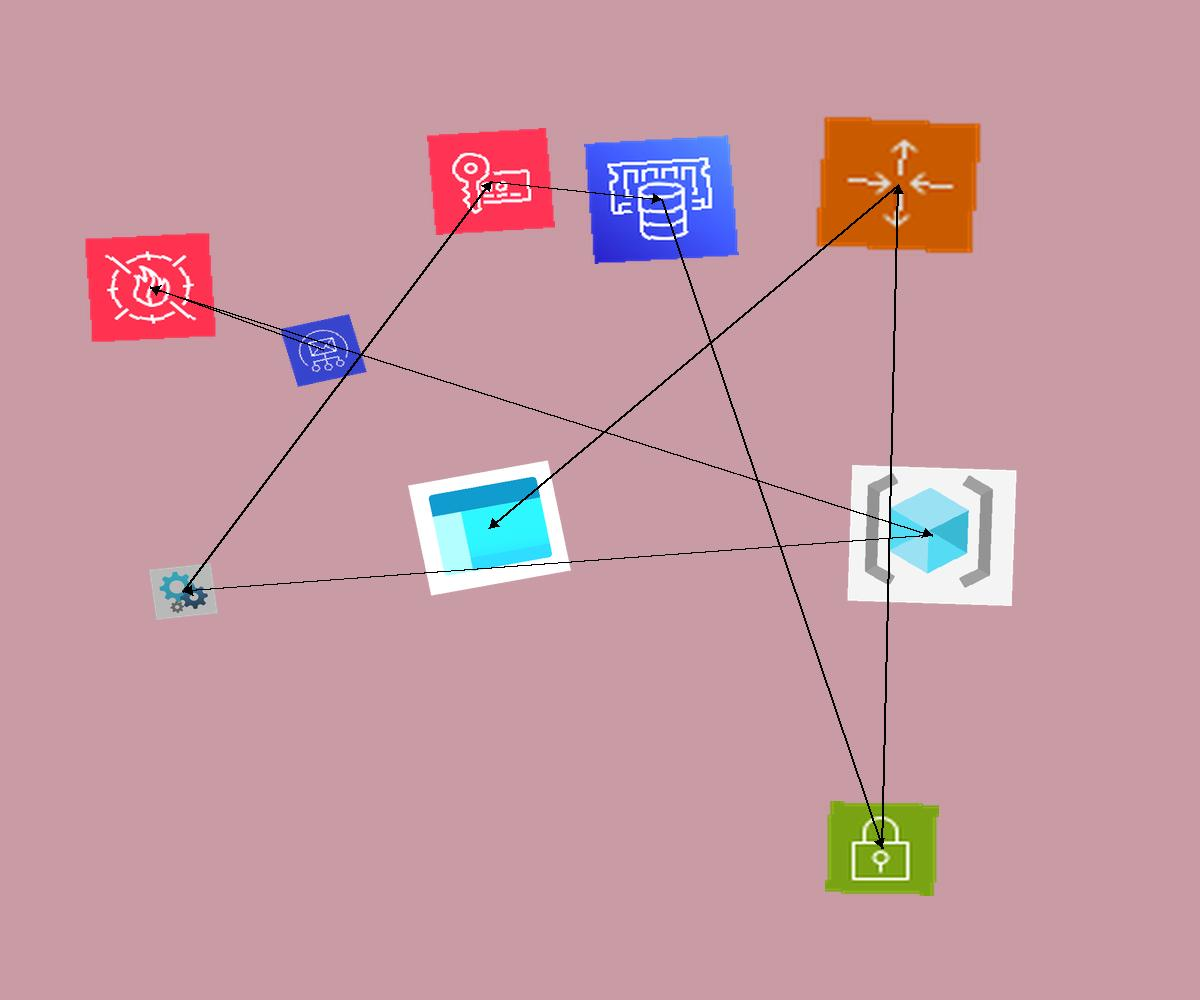AWS-ElastiCache: (584, 135, 739, 264)
AWS-Key-Management-Service: (427, 128, 555, 235)
AWS-Public-subnet: (825, 801, 939, 896)
AWS-Scaling-group: (813, 114, 984, 256)
AWS-Simple-Email-Service: (280, 314, 367, 387)
AWS-WAF: (84, 232, 217, 343)
Azure_api: (149, 563, 218, 620)
Azure_management-portal: (408, 460, 571, 596)
Azure_resource_group: (847, 465, 1017, 606)
